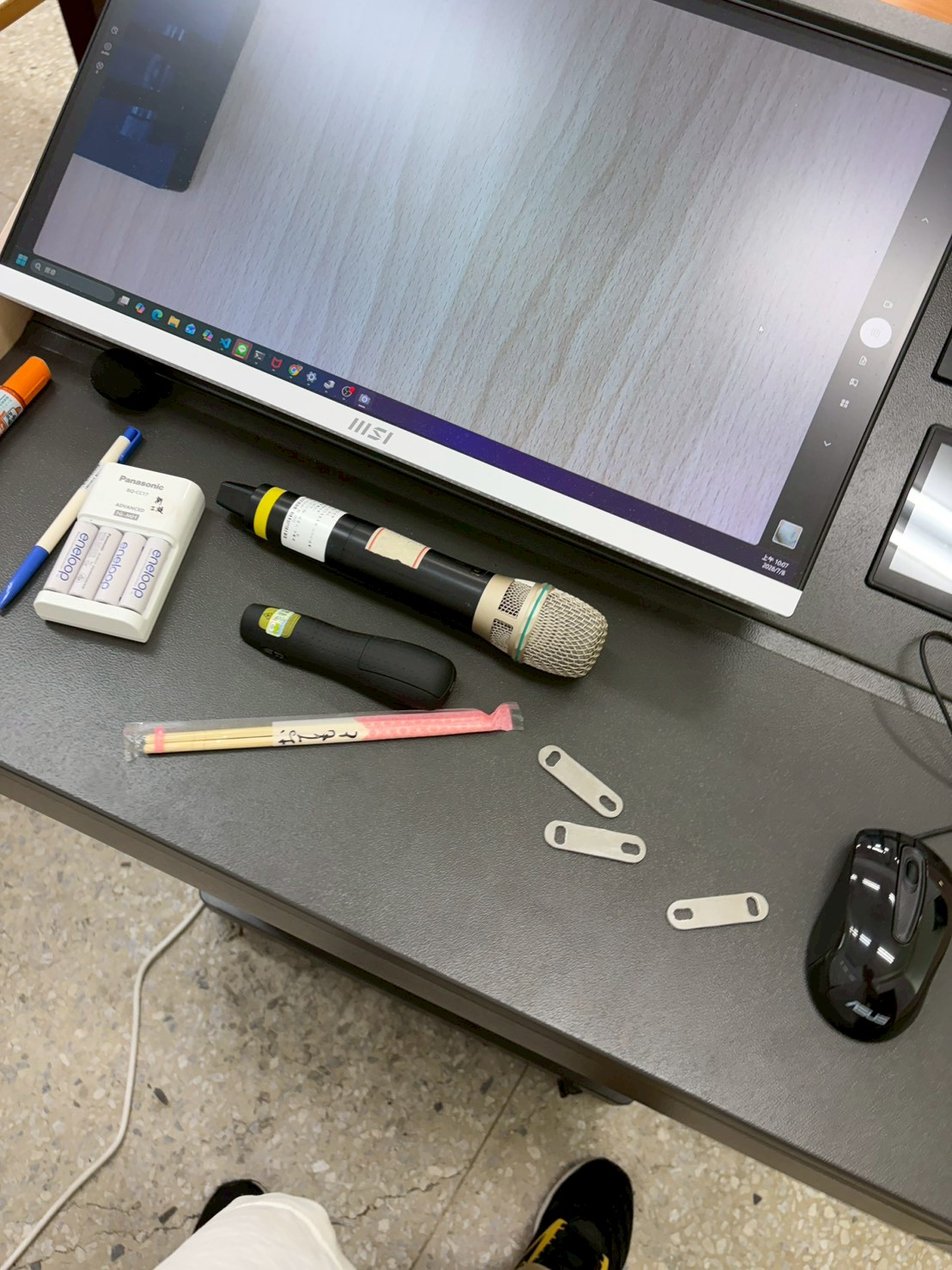Fe: (526, 733, 630, 815), (662, 873, 772, 941), (540, 820, 644, 873)
